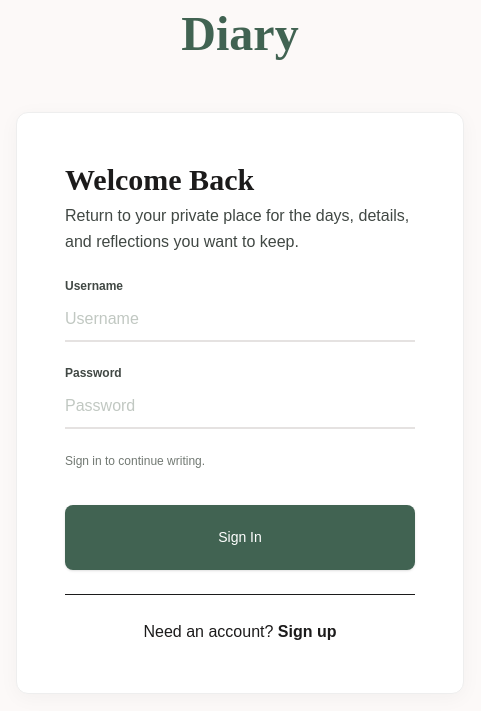
Scenario: SigninPage › shows generic feedback when signin fails unexpectedly
In the field labelled "Username": (240, 320) x1=65 y1=298 x2=415 y2=342, type "person_test"
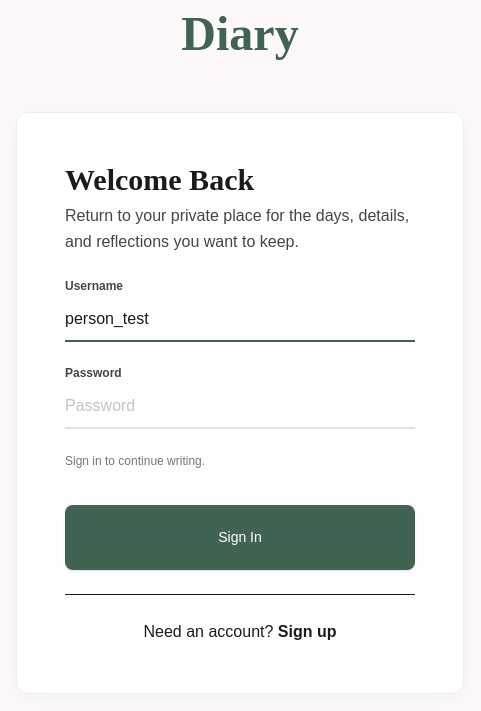
In the password field labelled "Password": (240, 406) x1=65 y1=384 x2=415 y2=428, type "password123"
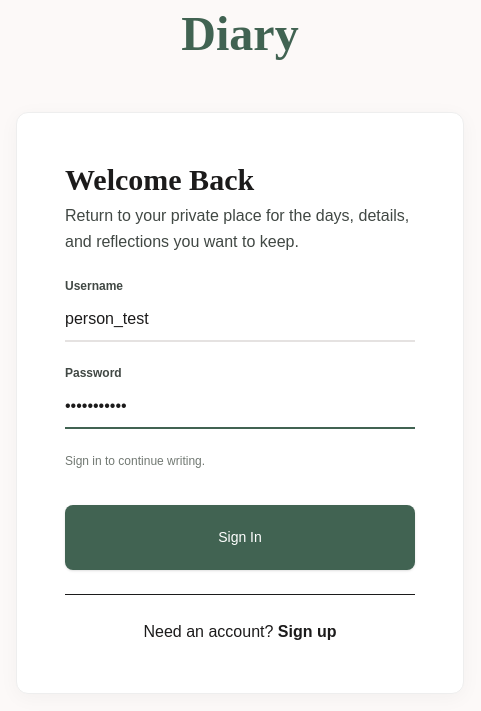
Click the button "Sign In": (240, 537) x1=65 y1=504 x2=415 y2=570
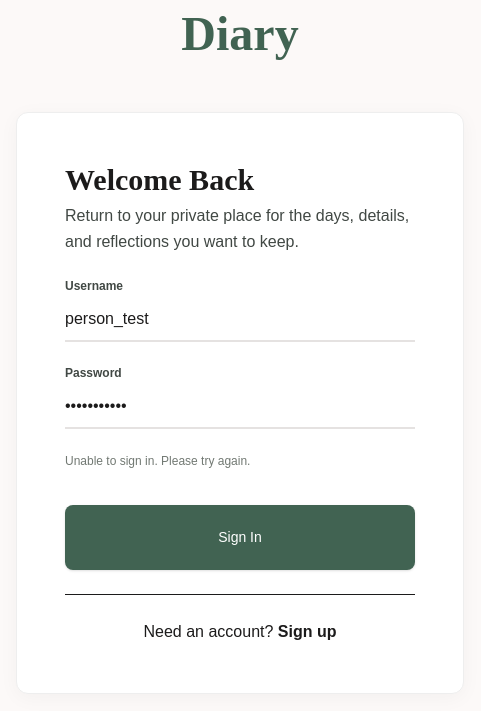
Expected: the text "Unable to sign in. Please try again." is shown, x1=65 y1=454 x2=250 y2=468
